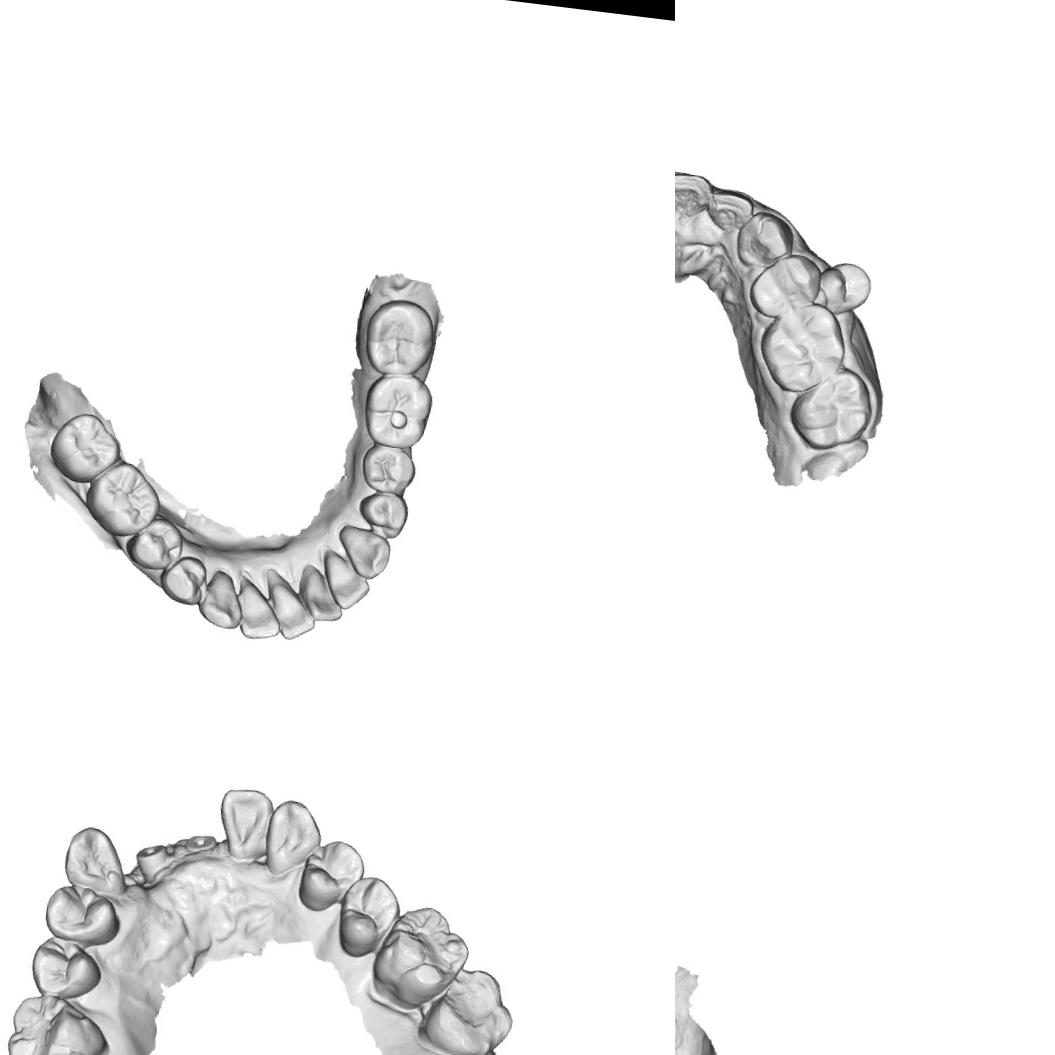canine: (256, 794, 326, 884), (58, 820, 136, 899), (730, 207, 795, 272), (333, 520, 396, 583), (195, 567, 248, 635)
implant: (130, 836, 172, 882), (180, 825, 218, 862)
incisor: (213, 780, 278, 864), (264, 574, 324, 644), (316, 550, 374, 614), (294, 562, 350, 628), (235, 577, 287, 643), (702, 184, 759, 238), (675, 165, 715, 220)
molar: (365, 899, 476, 1016), (415, 959, 521, 1055), (754, 296, 850, 401), (784, 359, 878, 457), (78, 454, 164, 542), (0, 990, 111, 1055), (358, 293, 438, 381), (358, 369, 440, 454), (46, 408, 122, 486)
premolar: (293, 832, 369, 920), (331, 870, 402, 963), (23, 931, 110, 1004), (745, 248, 827, 325), (38, 880, 124, 948), (154, 544, 212, 614), (357, 438, 420, 500), (122, 514, 184, 576), (814, 257, 876, 319), (353, 486, 415, 542)
